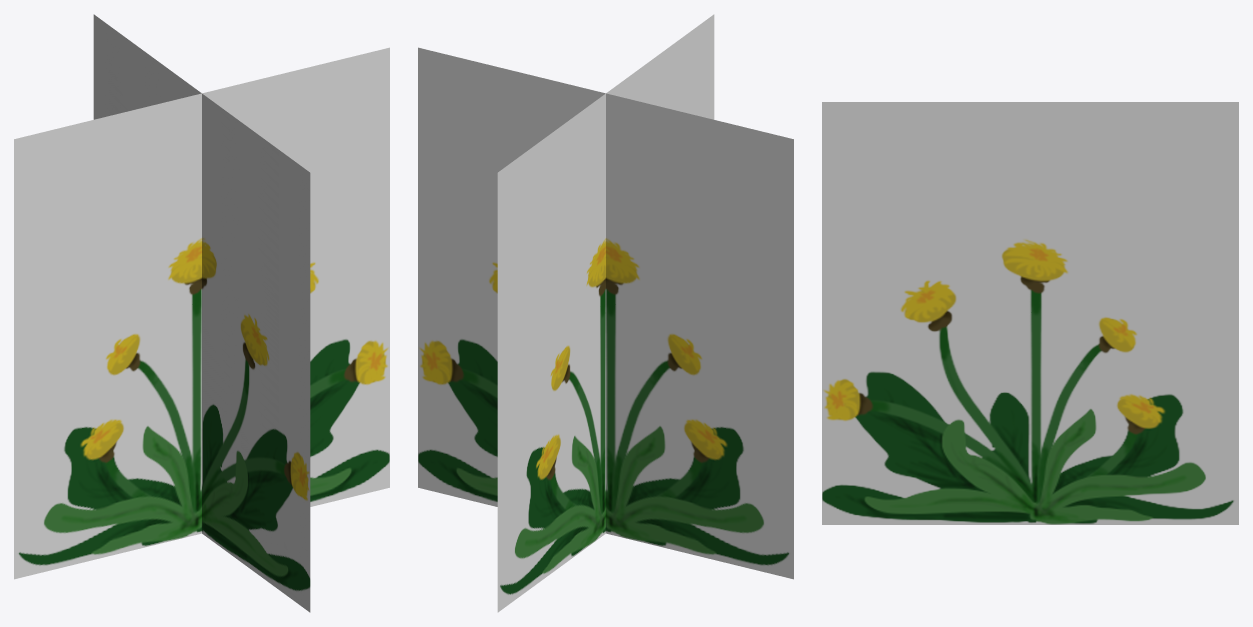
File: FlowerCluster.fbx
3 views of the same model, side by side, from view 1: azimuth 30°, elevation 25°; view 2: azimuth 150°, elevation 25°; view 3: azimuth 270°, elevation 25° (orthographic). The views are drawn at different scales.
Parts seen in each view (by area): view 1: pPlane3; view 2: pPlane3; view 3: pPlane3.
Boxes of the visible parts, x1,y1,x2,y2 form: pPlane3: [14, 14, 389, 612]; pPlane3: [418, 14, 793, 612]; pPlane3: [822, 102, 1238, 524].
Size of the model in its own units: 10.08 by 11.29 by 10.08.
